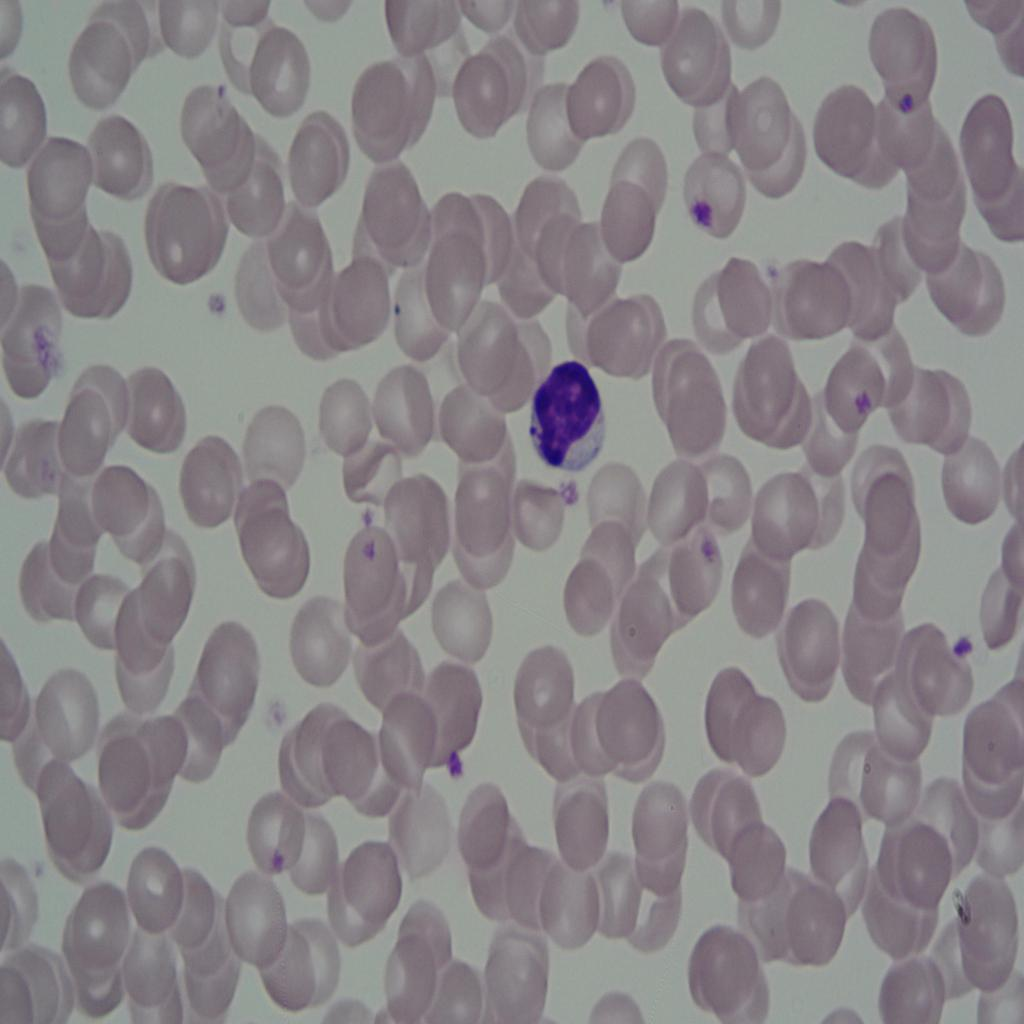Myeoblast: (514, 346, 616, 490)
Platelet: (433, 731, 471, 799), (947, 624, 983, 684), (690, 183, 721, 237), (695, 526, 725, 581), (352, 493, 390, 532), (262, 845, 293, 889), (895, 78, 921, 128), (557, 476, 581, 520), (852, 380, 877, 420), (206, 284, 228, 327), (761, 250, 785, 286), (359, 532, 380, 570)
